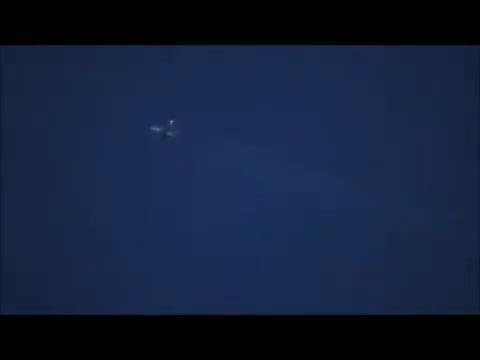Plane: (130, 109, 201, 151)
